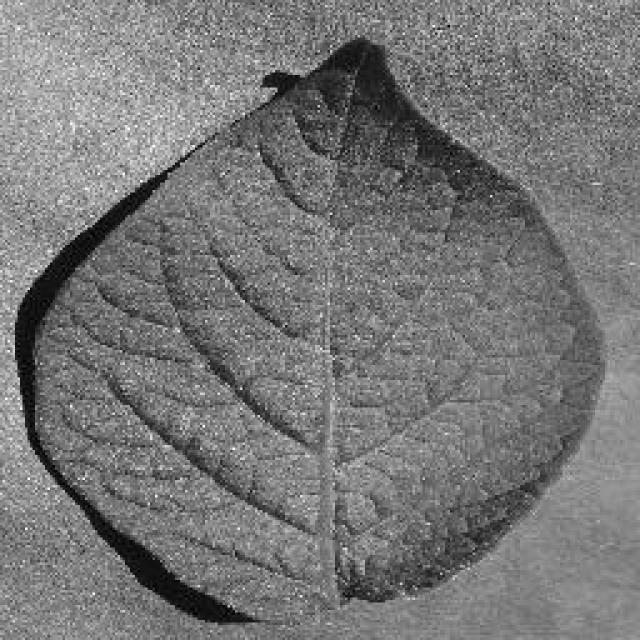Potato: (12, 32, 608, 622)
